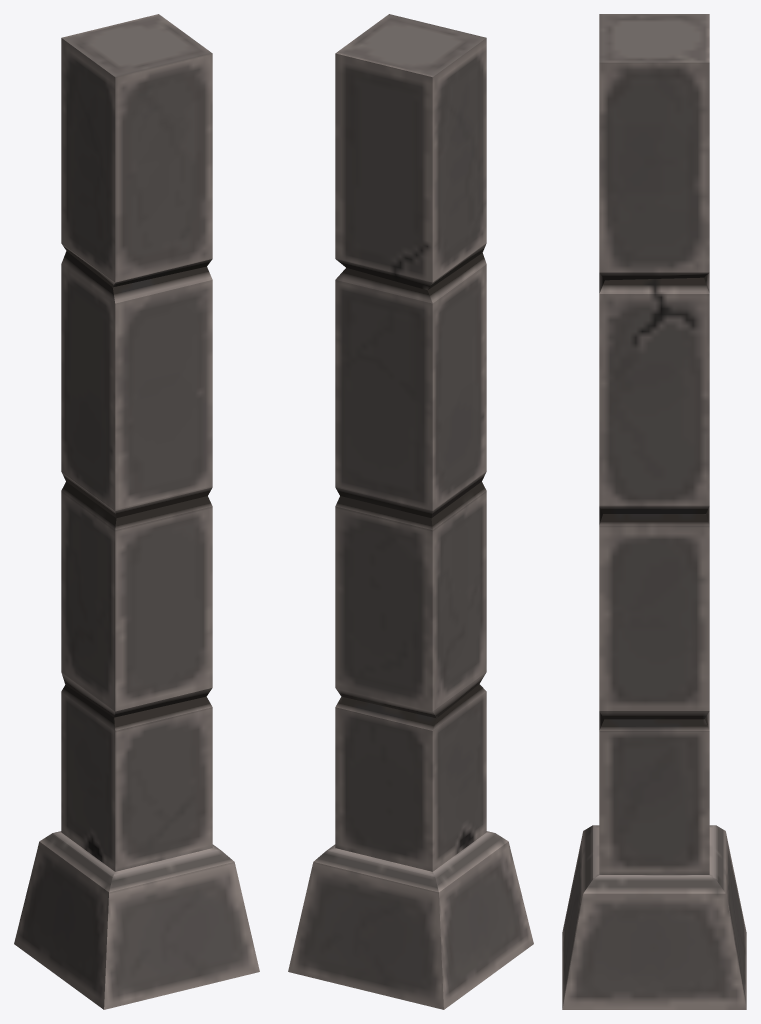
The model's file is Pillar 1.fbx.
3 views of the same model, side by side, from view 1: azimuth 30°, elevation 25°; view 2: azimuth 150°, elevation 25°; view 3: azimuth 270°, elevation 25° (orthographic). The views are drawn at different scales.
Parts seen in each view (by area): view 1: Pillar; view 2: Pillar; view 3: Pillar.
Boxes of the visible parts, x1,y1,x2,y2 form: Pillar: (14,14,259,1009); Pillar: (288,14,533,1009); Pillar: (562,14,746,1009).
Size of the model in its own units: 550 by 3075 by 550.
